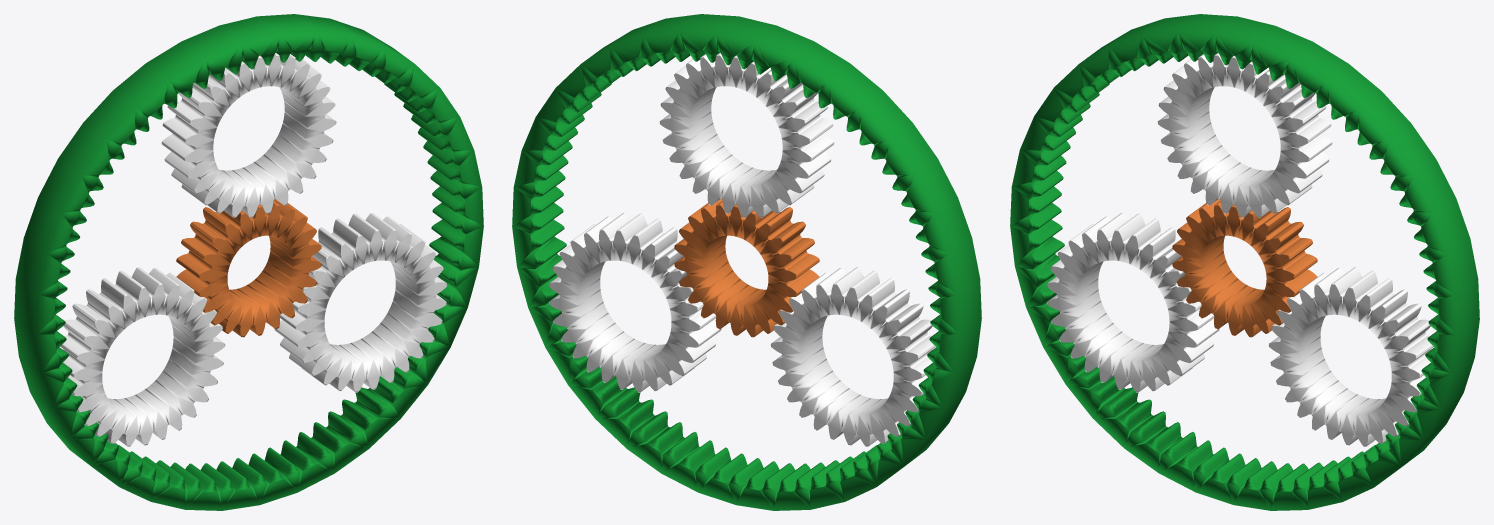
The model's file is planetary3.glb.
3 views of the same model, side by side, from view 1: azimuth 30°, elevation 25°; view 2: azimuth 150°, elevation 25°; view 3: azimuth 330°, elevation 25° (orthographic).
Parts seen in each view (by area): view 1: part1, part3, part2, part4, part5; view 2: part1, part3, part2, part4, part5; view 3: part1, part2, part3, part4, part5.
Part boxes in pixels (left/top/right/bottom): part1: left=14, top=14, right=483, bottom=510; part3: left=60, top=267, right=225, bottom=446; part2: left=274, top=213, right=447, bottom=392; part4: left=161, top=53, right=336, bottom=217; part5: left=176, top=199, right=321, bottom=337; part1: left=512, top=14, right=981, bottom=510; part3: left=770, top=267, right=935, bottom=446; part2: left=548, top=213, right=721, bottom=392; part4: left=659, top=53, right=834, bottom=217; part5: left=674, top=199, right=819, bottom=337; part1: left=1010, top=14, right=1479, bottom=510; part2: left=1268, top=267, right=1433, bottom=446; part3: left=1046, top=213, right=1219, bottom=392; part4: left=1157, top=53, right=1332, bottom=217; part5: left=1172, top=199, right=1317, bottom=337.
Size of the model in its own units: 0.1146 by 0.1145 by 0.01.
